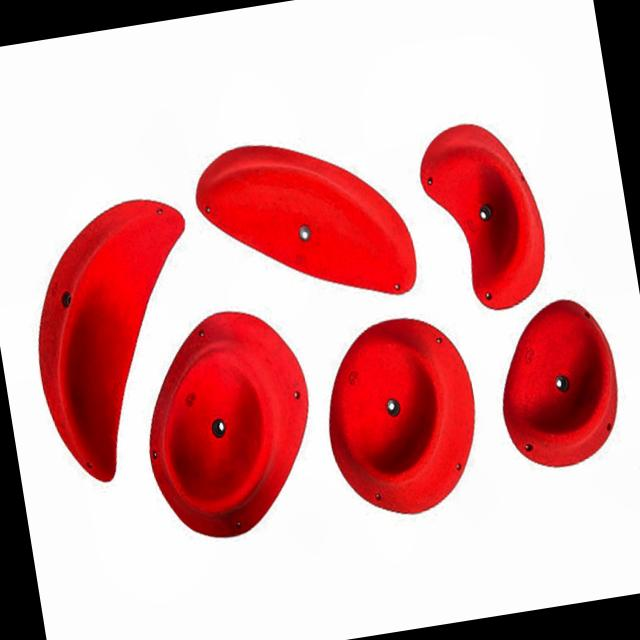Hold: (184, 120, 424, 328), (128, 300, 326, 548), (37, 186, 191, 500), (314, 307, 490, 525), (409, 110, 556, 320), (487, 290, 631, 470)
